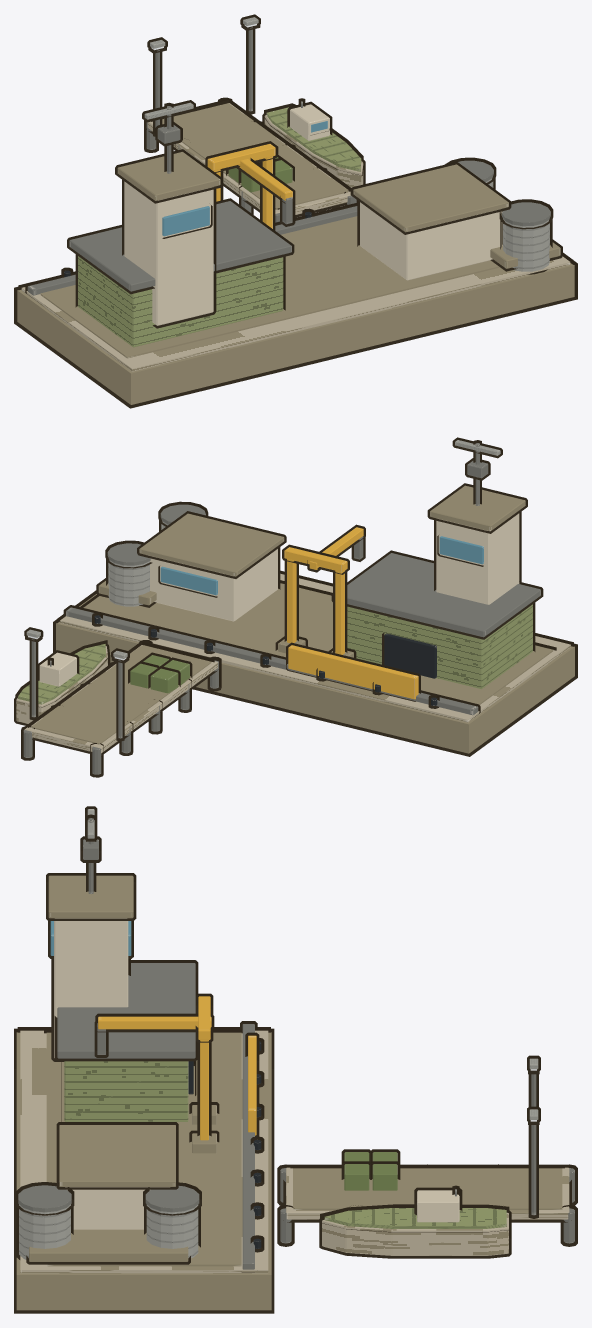
The model's file is navyBase.glb.
3 renders of one model, top to bottom at view 1: azimuth 30°, elevation 25°; view 2: azimuth 150°, elevation 25°; view 3: azimuth 270°, elevation 25°, orthographic. The views are drawn at different scales.
Visible parts, largest first — view 1: NavyBase, Lv2, Lv1; view 2: NavyBase, Lv2, Lv1; view 3: NavyBase, Lv1, Lv2.
Boxes of the visible parts, x1,y1,x2,y2 form: NavyBase: (14,97,577,408); Lv2: (115,14,260,328); Lv1: (205,98,562,274); NavyBase: (21,511,577,777); Lv2: (24,437,527,741); Lv1: (14,501,365,725); NavyBase: (14,960,577,1313); Lv1: (15,993,511,1264); Lv2: (46,806,540,1218).
Size of the model in its own units: 3.53 by 1.96 by 3.44.
Materials: 2 (1 with a texture image).
